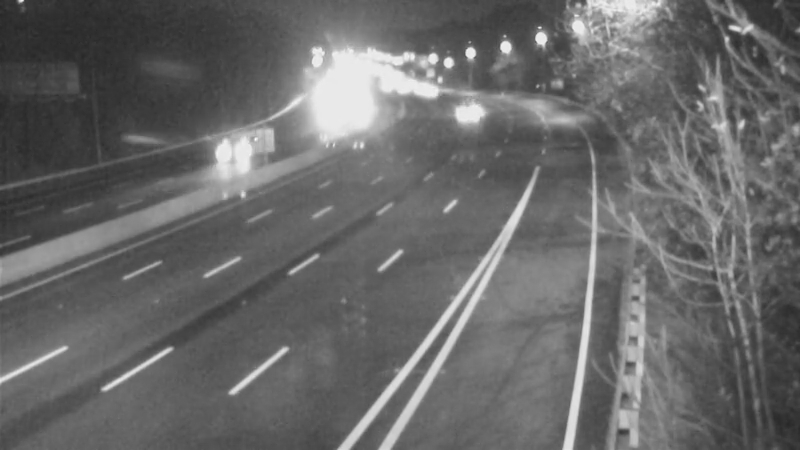vehicle: (181, 120, 261, 200), (442, 84, 492, 134)
